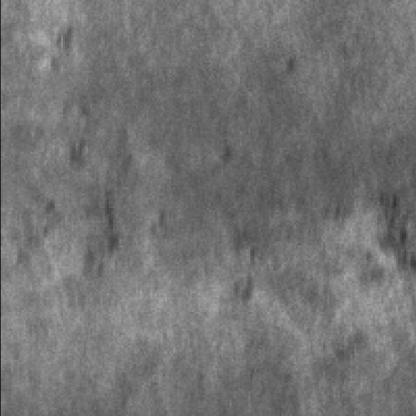rolled-in_scale: (220, 195, 414, 325), (27, 37, 125, 280)
